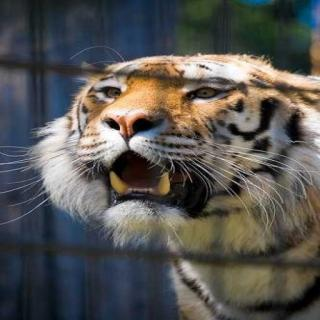Tiger: (30, 34, 320, 319)
